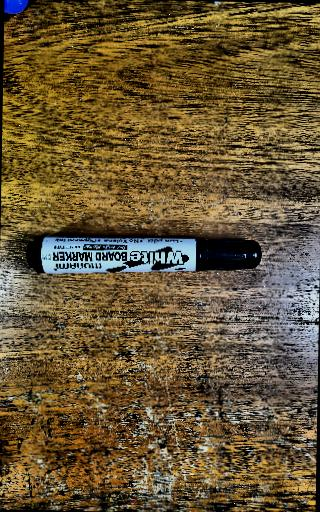marcador negro: (26, 234, 261, 274)
